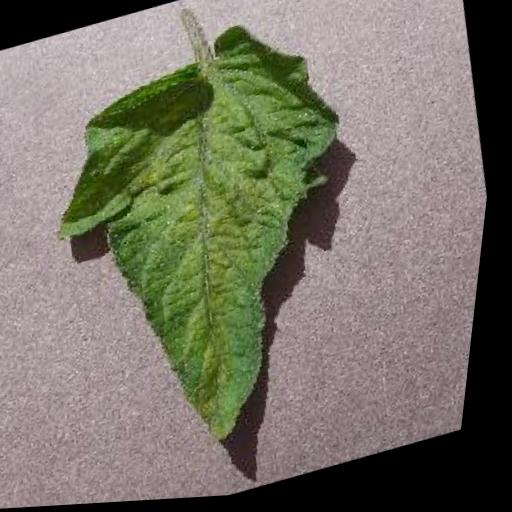Spider Mites: (6, 0, 422, 491)
